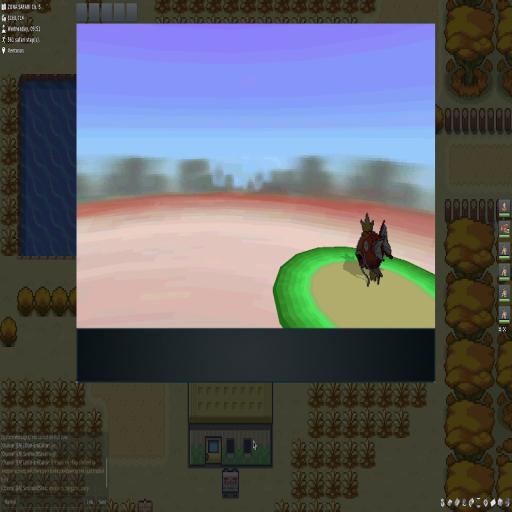MAGIKARP: (350, 212, 391, 288)
